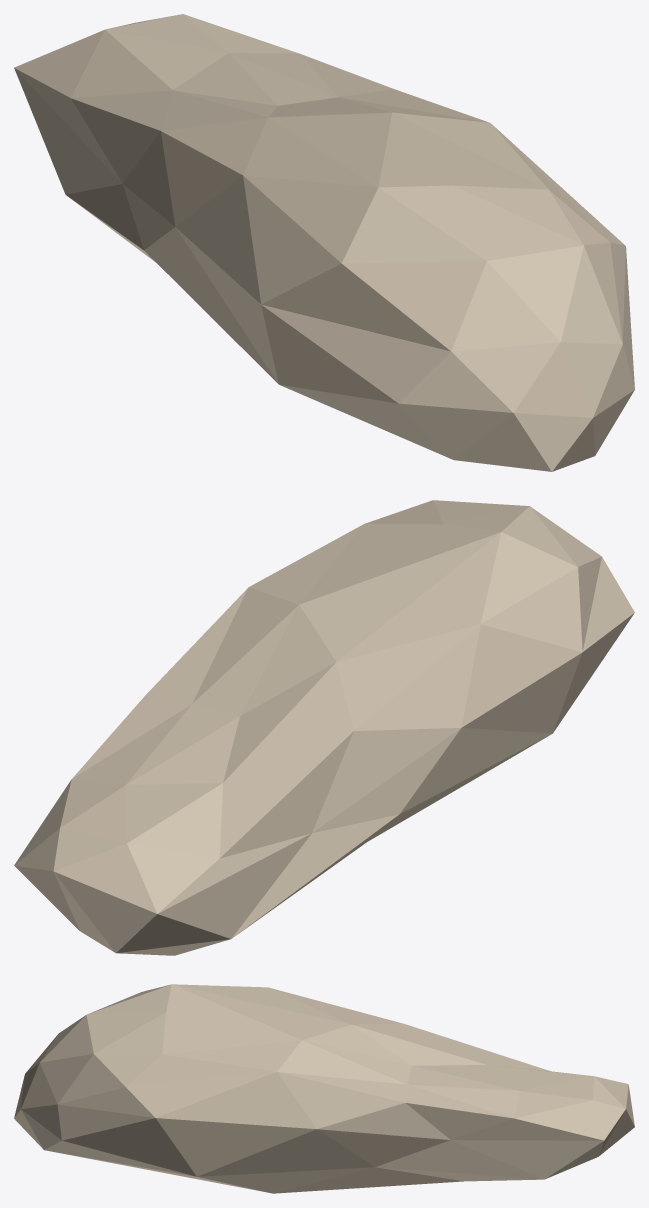
The model's file is Rock2.fbx.
The picture shows the model from 3 angles, top to bottom: view 1: azimuth 30°, elevation 25°; view 2: azimuth 150°, elevation 25°; view 3: azimuth 270°, elevation 25°; orthographic projection. The views are drawn at different scales.
Parts seen in each view (by area): view 1: Icosphere; view 2: Icosphere; view 3: Icosphere.
Boxes of the visible parts, bbox=[...] form: Icosphere: bbox=[14, 14, 634, 471]; Icosphere: bbox=[14, 500, 634, 955]; Icosphere: bbox=[14, 984, 634, 1193].
Bounding box in the file's own units: 295 × 225 × 760.
